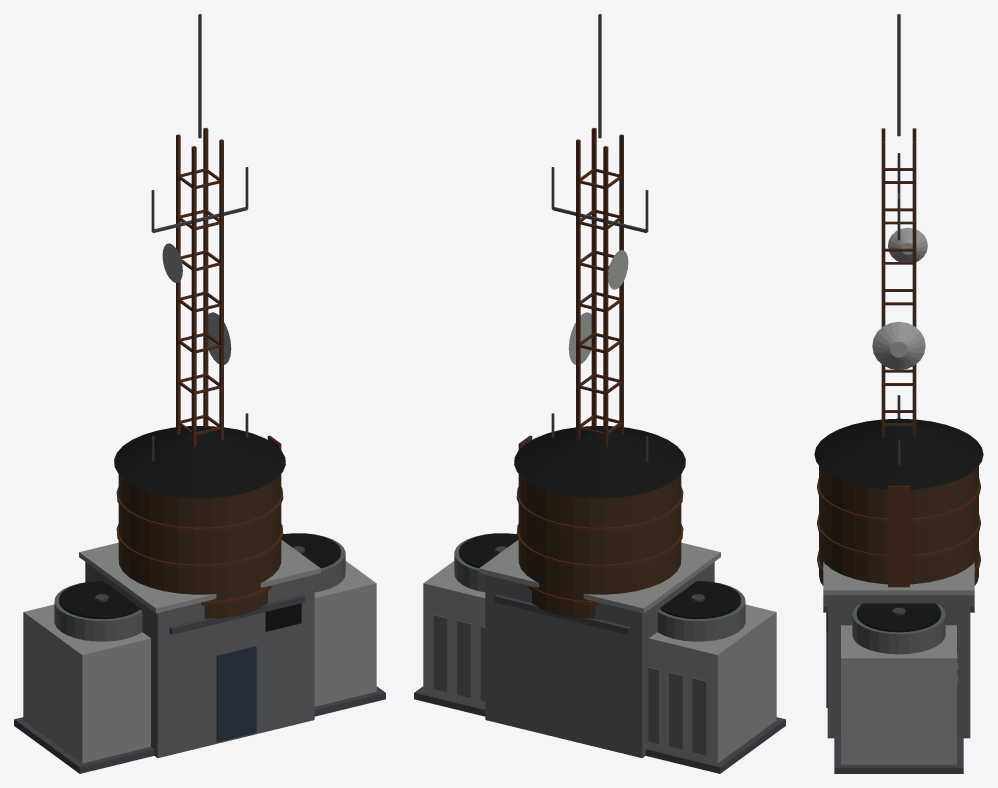
Rendered from rooftops.glb.
3 views of the same model, side by side, from view 1: azimuth 30°, elevation 25°; view 2: azimuth 150°, elevation 25°; view 3: azimuth 270°, elevation 25° (orthographic).
Parts seen in each view (by area): view 1: chiller, tank, housing, antenna; view 2: chiller, tank, housing, antenna; view 3: tank, chiller, housing, antenna.
Boxes of the visible parts, bbox=[...] form: chiller: bbox=[14, 533, 385, 773]; tank: bbox=[114, 426, 305, 634]; housing: bbox=[79, 540, 320, 757]; antenna: bbox=[151, 14, 248, 461]; chiller: bbox=[414, 533, 785, 773]; tank: bbox=[494, 426, 685, 634]; housing: bbox=[479, 540, 720, 757]; antenna: bbox=[551, 14, 648, 461]; tank: bbox=[814, 418, 983, 612]; chiller: bbox=[834, 603, 963, 773]; housing: bbox=[823, 562, 974, 738]; antenna: bbox=[872, 14, 927, 465].
Size of the model in its own units: 7.8 by 17 by 3.8.
